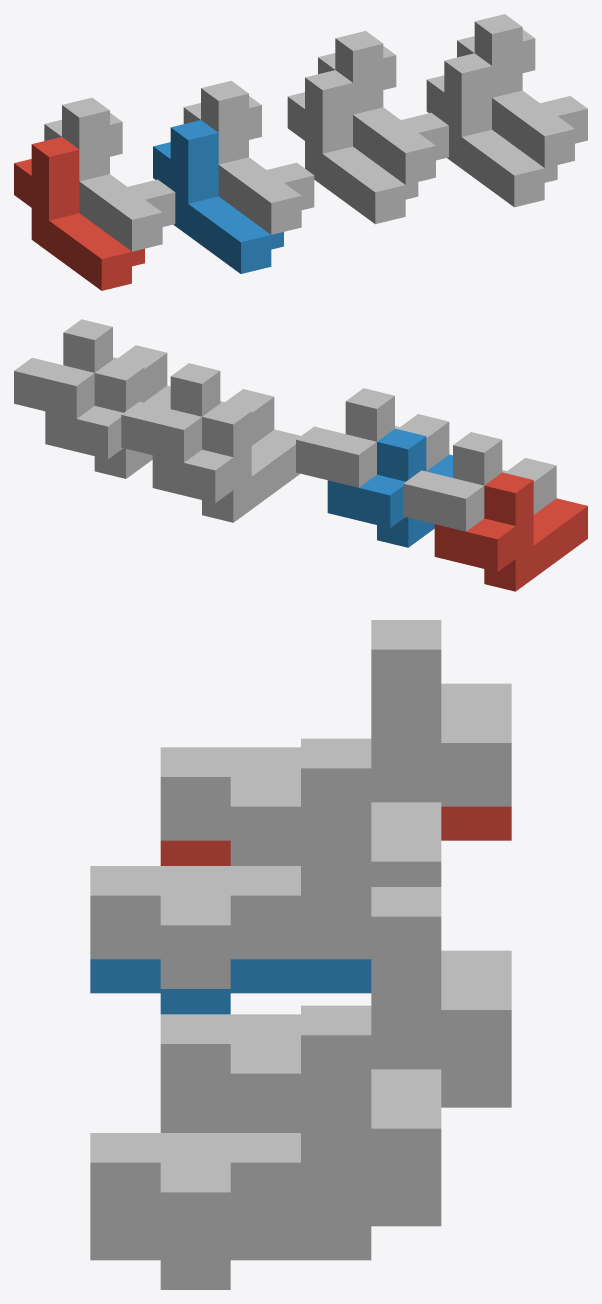
Rendered from tiling.obj.
3 renders of one model, top to bottom at view 1: azimuth 30°, elevation 25°; view 2: azimuth 150°, elevation 25°; view 3: azimuth 270°, elevation 25°, orthographic. The views are drawn at different scales.
Parts seen in each view (by area): view 1: copy_1_domain_1, copy_1_domain_5, copy_1_domain_3, copy_1_domain_4, copy_1_domain_7, copy_1_domain_8, copy_1_domain_2, copy_1_domain_6; view 2: copy_1_domain_1, copy_1_domain_5, copy_1_domain_3, copy_1_domain_7, copy_1_domain_4, copy_1_domain_8, copy_1_domain_6, copy_1_domain_2; view 3: copy_1_domain_8, copy_1_domain_4, copy_1_domain_3, copy_1_domain_7, copy_1_domain_6, copy_1_domain_2, copy_1_domain_1, copy_1_domain_5.
Boxes of the visible parts, bbox=[...] form: copy_1_domain_1: bbox=[14, 137, 144, 290]; copy_1_domain_5: bbox=[287, 70, 418, 224]; copy_1_domain_3: bbox=[44, 97, 175, 251]; copy_1_domain_4: bbox=[183, 80, 314, 234]; copy_1_domain_7: bbox=[318, 31, 448, 184]; copy_1_domain_8: bbox=[457, 14, 587, 167]; copy_1_domain_2: bbox=[153, 120, 283, 273]; copy_1_domain_6: bbox=[426, 53, 557, 207]; copy_1_domain_1: bbox=[434, 472, 587, 591]; copy_1_domain_5: bbox=[152, 403, 300, 522]; copy_1_domain_3: bbox=[403, 432, 556, 531]; copy_1_domain_7: bbox=[121, 363, 274, 462]; copy_1_domain_4: bbox=[296, 388, 449, 487]; copy_1_domain_8: bbox=[14, 319, 167, 418]; copy_1_domain_6: bbox=[45, 360, 170, 478]; copy_1_domain_2: bbox=[327, 428, 452, 547]; copy_1_domain_8: bbox=[90, 1005, 441, 1255]; copy_1_domain_4: bbox=[90, 738, 441, 988]; copy_1_domain_3: bbox=[160, 620, 511, 865]; copy_1_domain_7: bbox=[160, 887, 511, 1132]; copy_1_domain_6: bbox=[90, 1192, 441, 1289]; copy_1_domain_2: bbox=[90, 959, 371, 1014]; copy_1_domain_1: bbox=[160, 806, 511, 865]; copy_1_domain_5: bbox=[160, 1073, 511, 1132].
Bounding box in the file's own units: 16 × 4 × 6.
